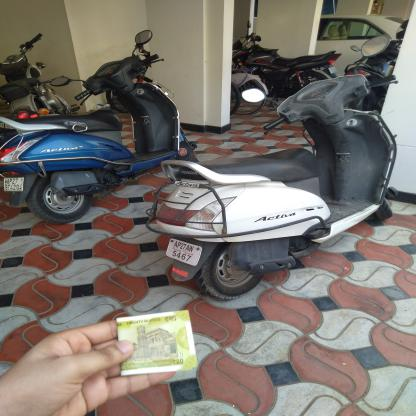New20Back: (114, 314, 192, 374)
